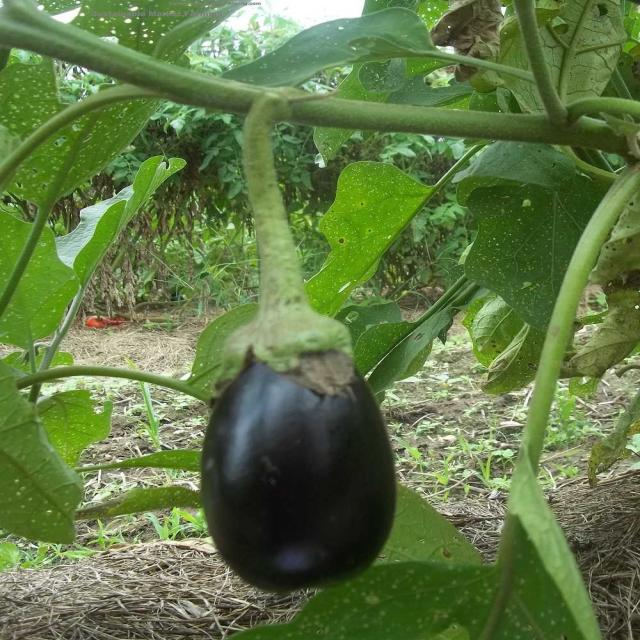Eggplant-r1Ob: (201, 92, 397, 591)
